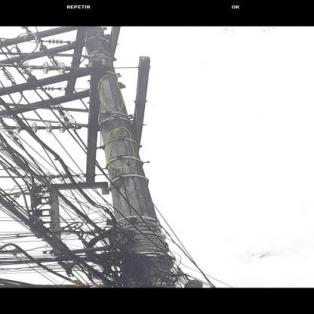Poste: (80, 28, 192, 288)
